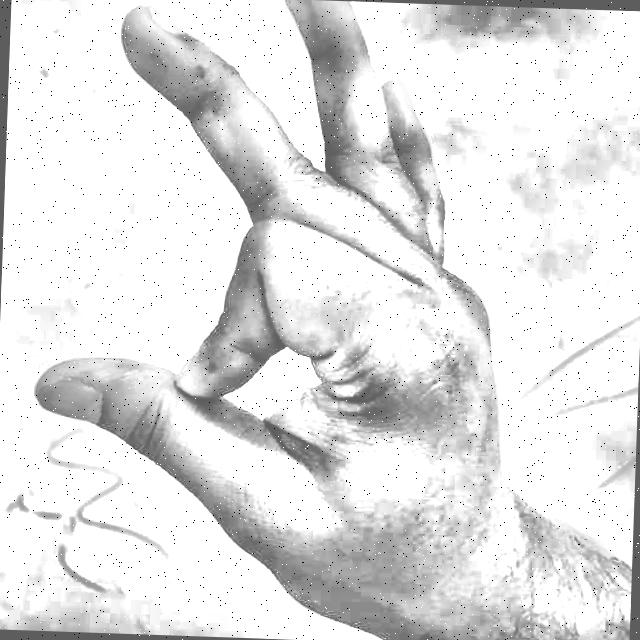Uo: (4, 0, 575, 640)
